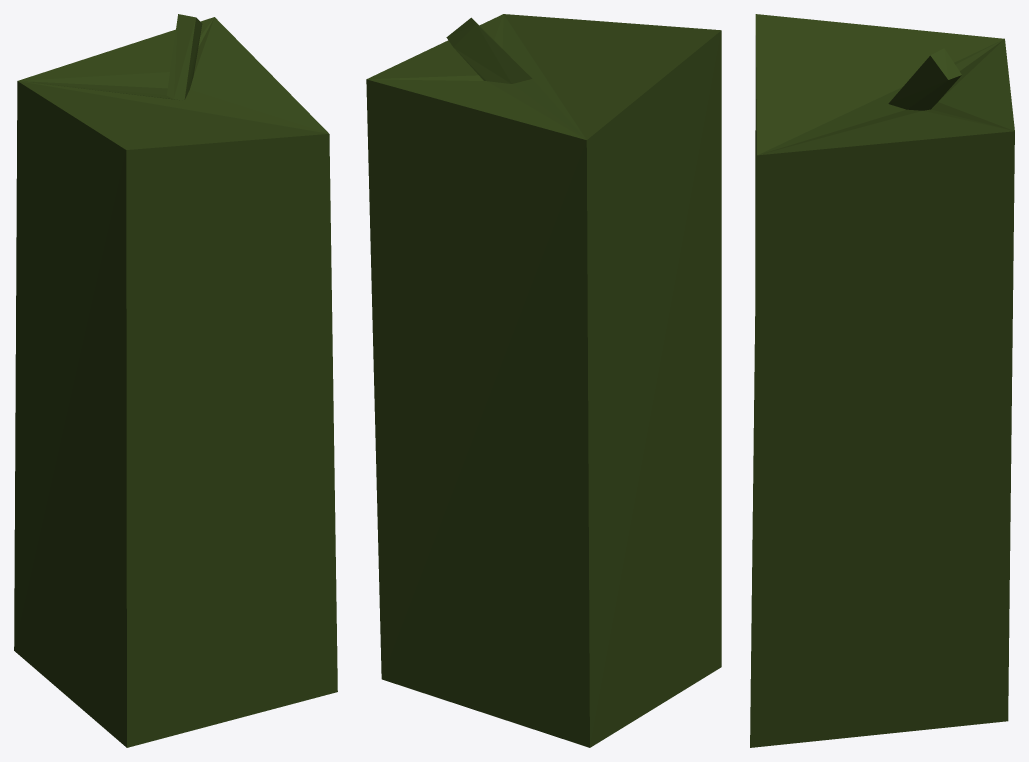
The picture shows the model from 3 angles, left to right: view 1: azimuth 30°, elevation 25°; view 2: azimuth 150°, elevation 25°; view 3: azimuth 270°, elevation 25°; orthographic projection. The views are drawn at different scales.
Visible parts, largest first — view 1: 209_Cube.865; view 2: 209_Cube.865; view 3: 209_Cube.865.
Boxes of the visible parts, x1,y1,x2,y2 form: 209_Cube.865: (14, 14, 337, 747); 209_Cube.865: (366, 14, 721, 747); 209_Cube.865: (750, 14, 1014, 747).
Bounding box in the file's own units: 4.7 × 13.52 × 4.83.
